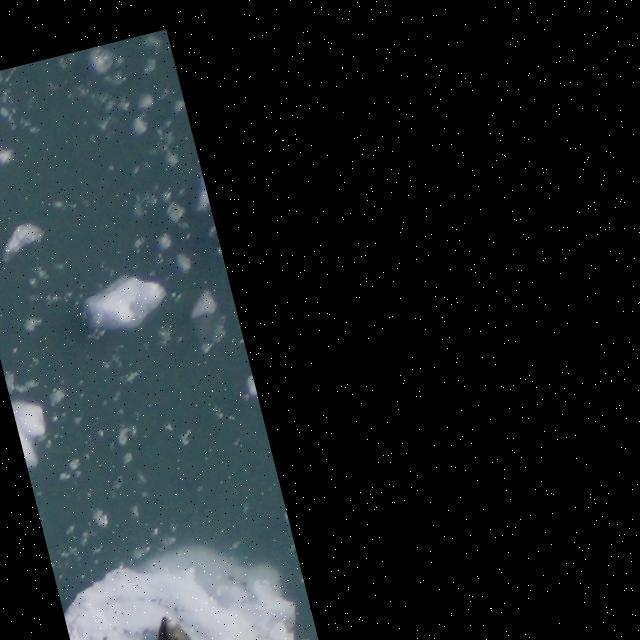seal: (143, 604, 201, 640)
